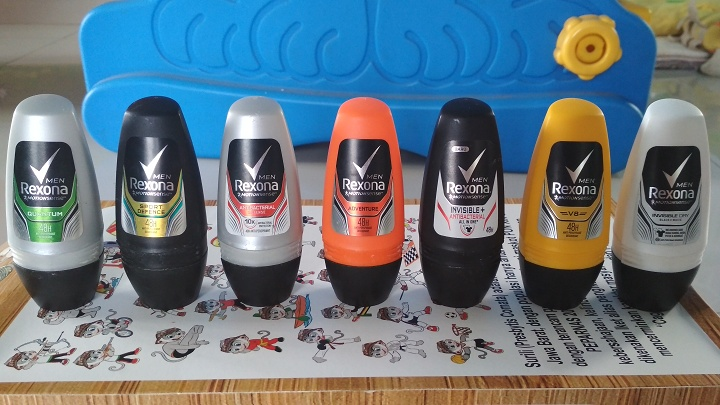rexona: (2, 92, 104, 310), (610, 94, 708, 314), (2, 92, 99, 310), (516, 96, 611, 308), (617, 94, 708, 314), (211, 92, 302, 305), (114, 96, 205, 307), (516, 100, 608, 308), (521, 96, 611, 308), (416, 92, 505, 306), (114, 93, 202, 307), (321, 93, 404, 305), (426, 92, 505, 306)
